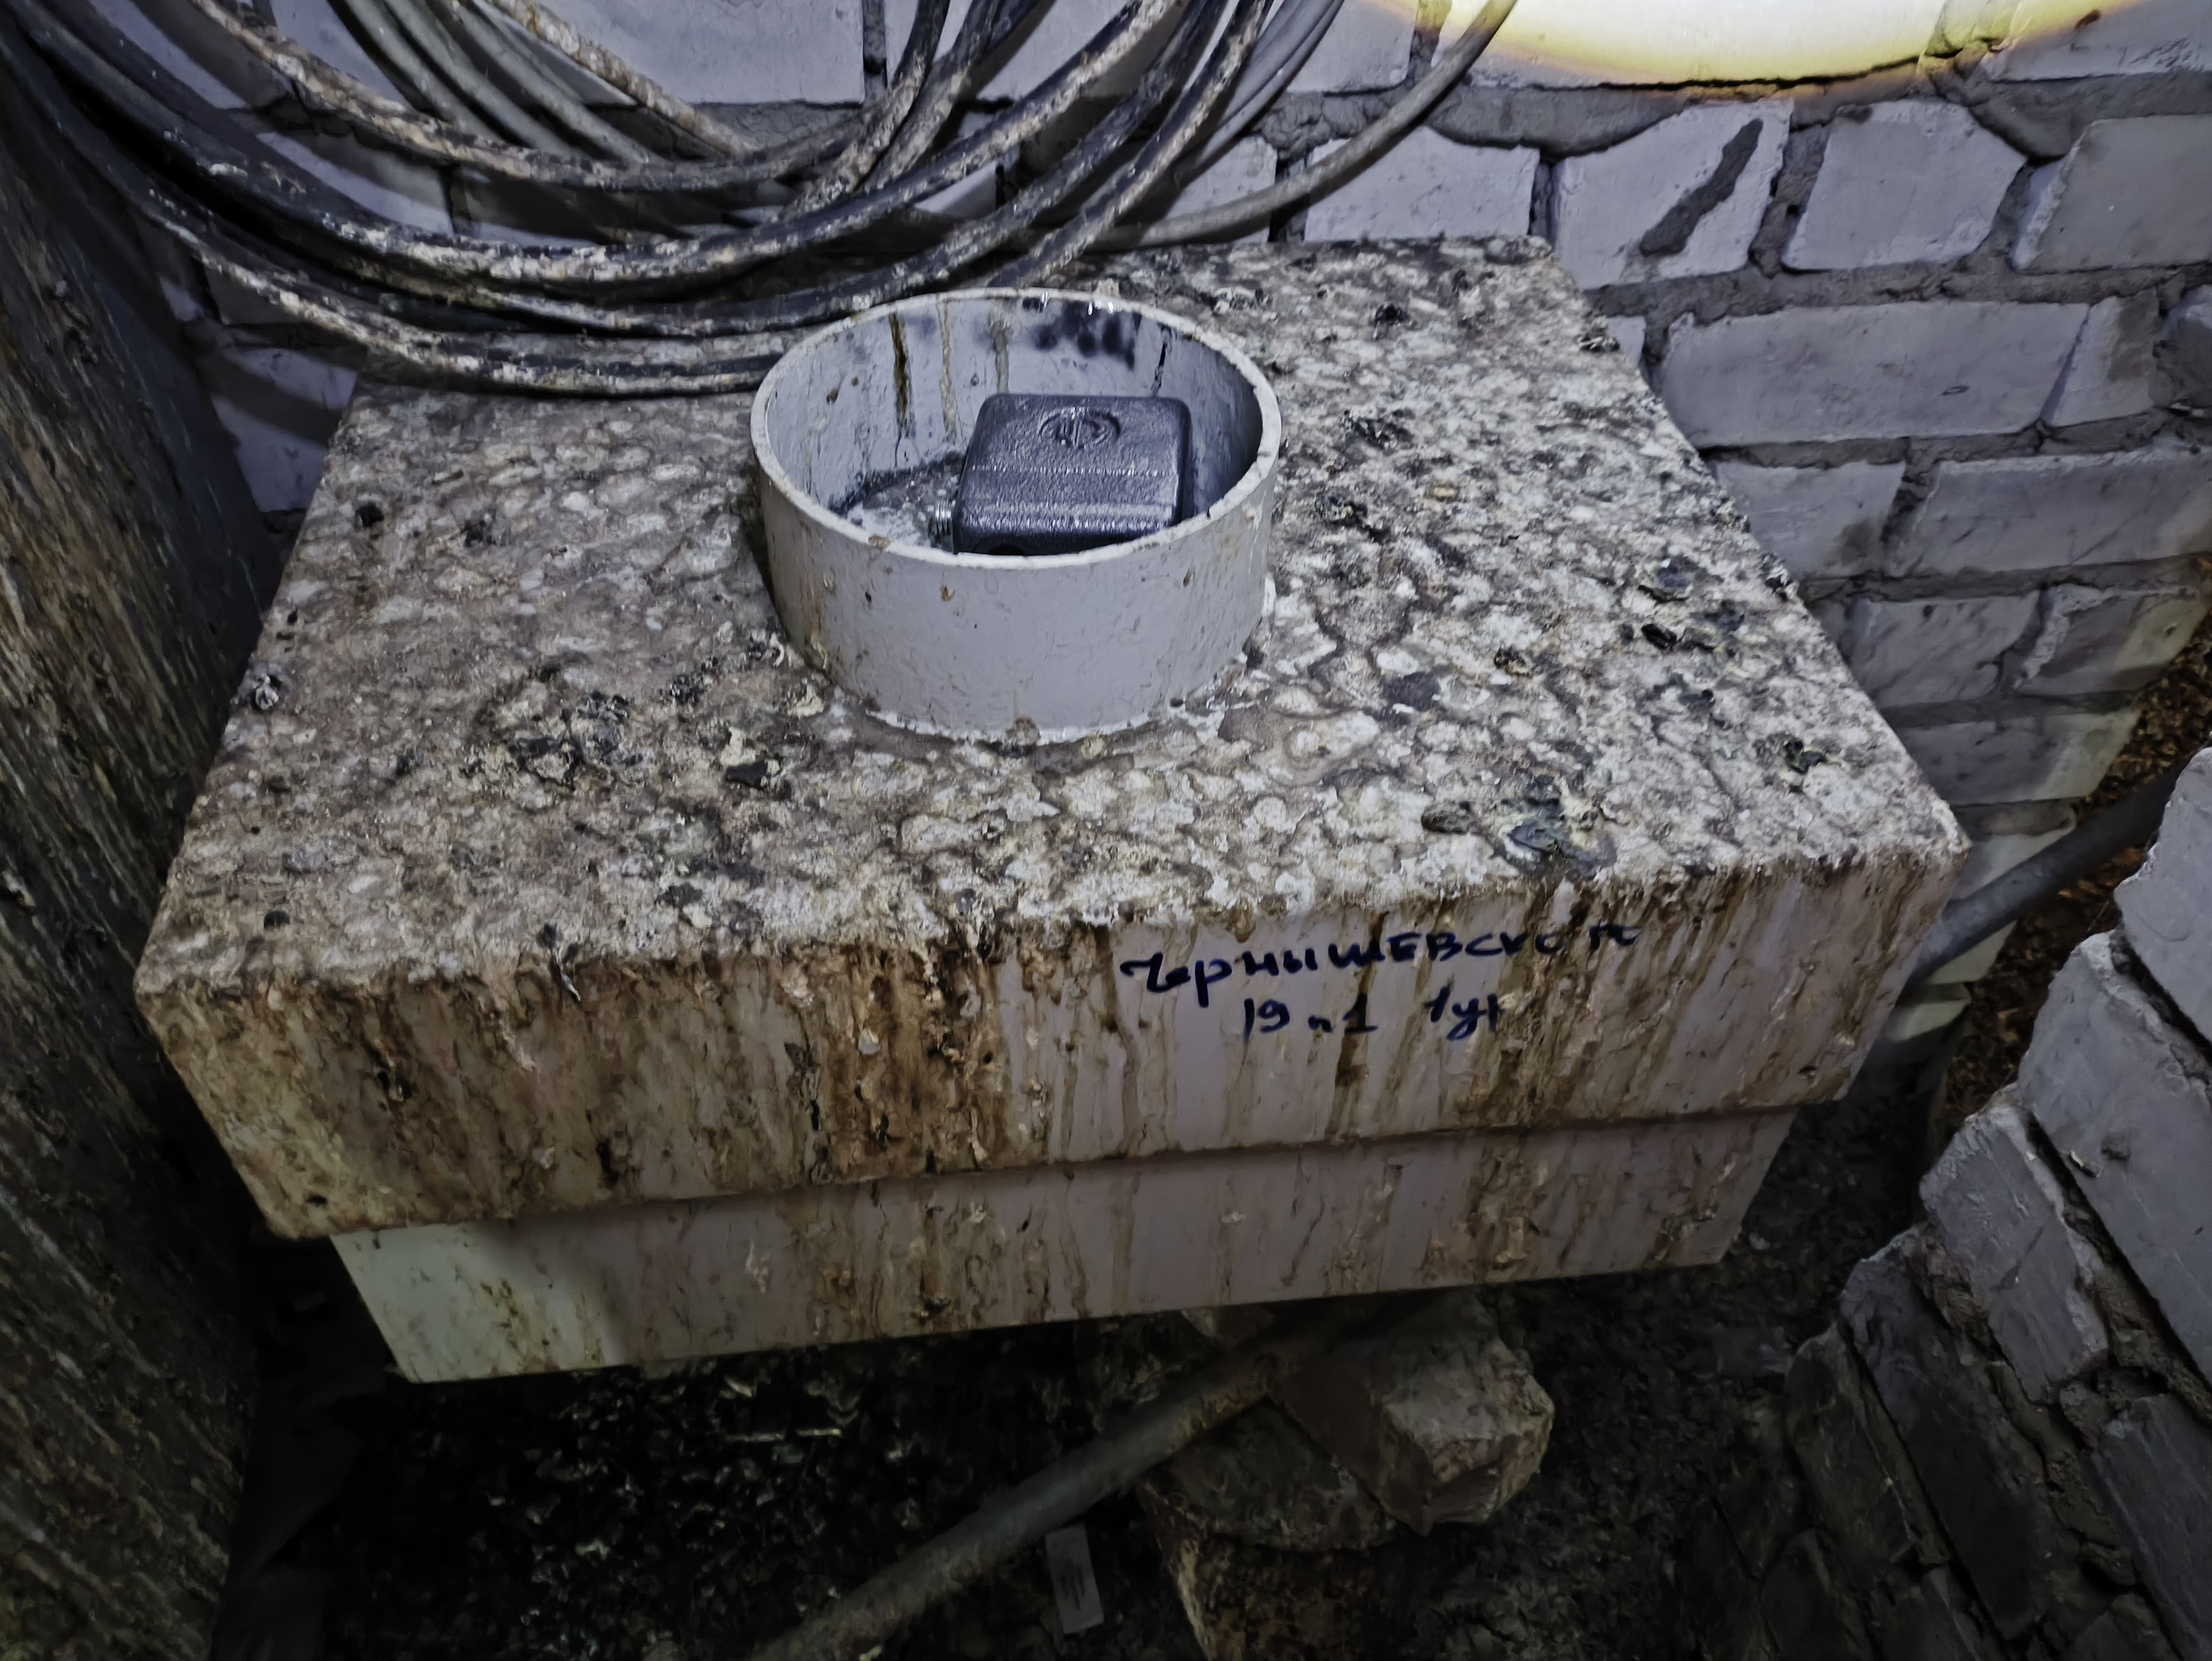shta-ps: (120, 220, 1997, 1401)
